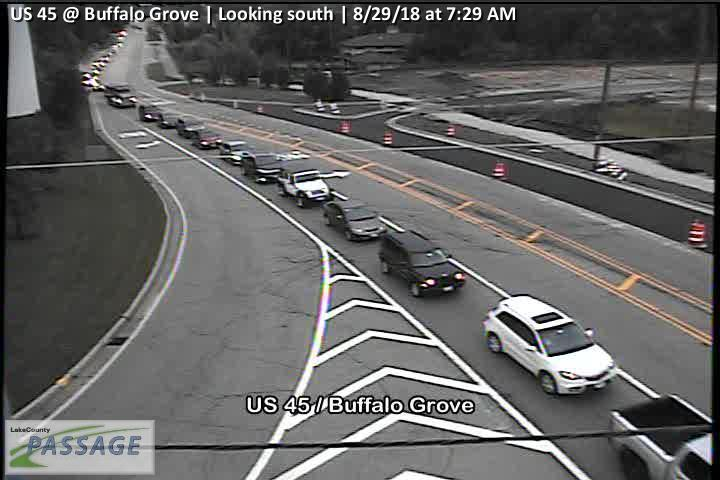SUV: (102, 81, 138, 108)
Sedan: (484, 294, 616, 395), (377, 229, 465, 298), (323, 195, 387, 242), (275, 167, 334, 210), (240, 149, 285, 186), (215, 139, 255, 166), (173, 115, 207, 136), (192, 130, 224, 149), (158, 108, 185, 130), (138, 102, 163, 122)
Truck: (605, 393, 717, 480)
